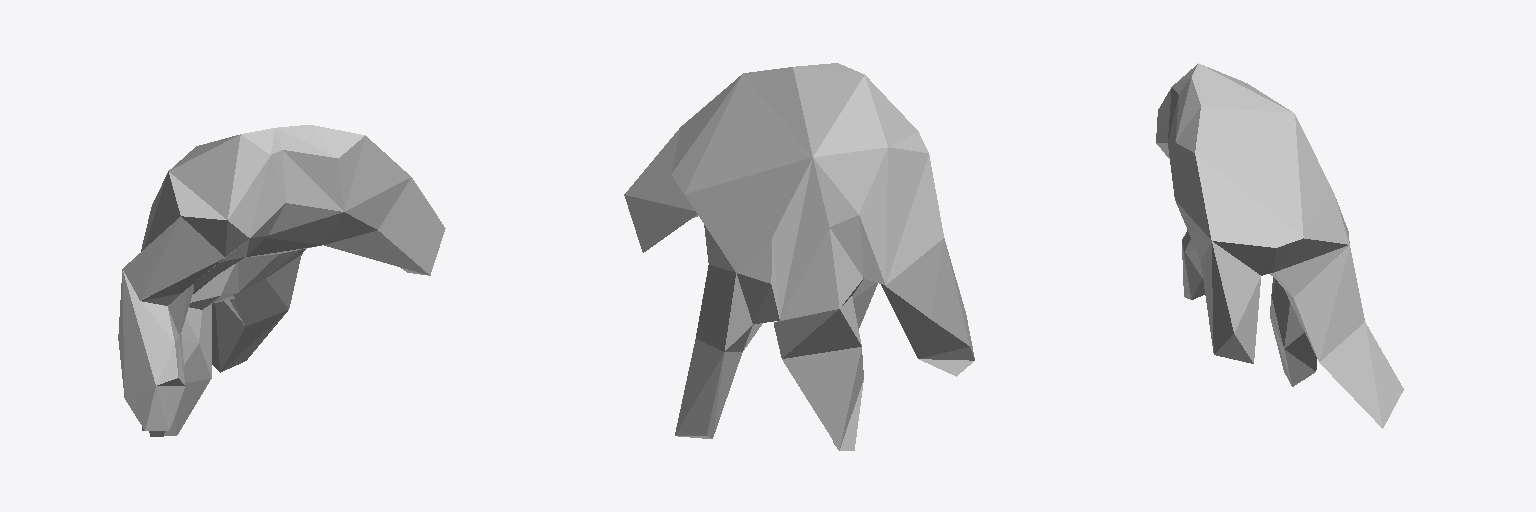
File: hand_low.obj
3 renders of one model, left to right at view 1: azimuth 30°, elevation 25°; view 2: azimuth 150°, elevation 25°; view 3: azimuth 270°, elevation 25°, orthographic.
Parts seen in each view (by area): view 1: handl; view 2: handl; view 3: handl.
Part boxes in pixels (x1,y1,x2,y2): handl: (118, 125, 445, 436); handl: (624, 63, 974, 450); handl: (1156, 63, 1403, 428).
Size of the model in its own units: 2.69 by 2.57 by 1.73.